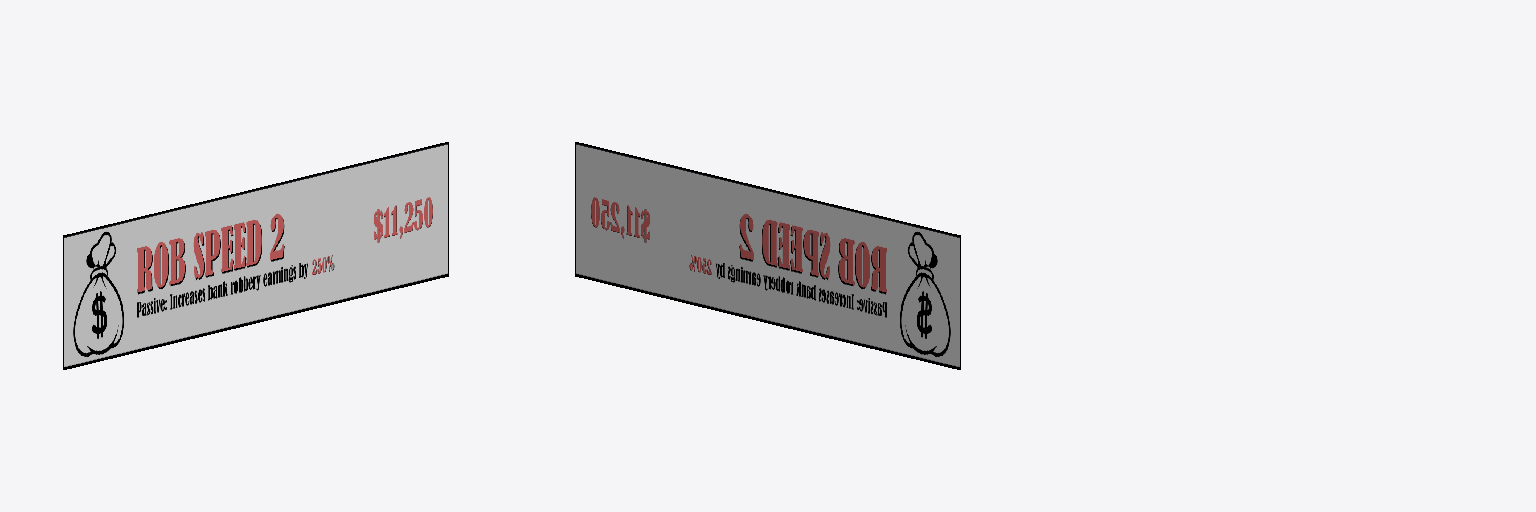
The picture shows the model from 3 angles: view 1: azimuth 30°, elevation 25°; view 2: azimuth 150°, elevation 25°; view 3: azimuth 270°, elevation 25°; orthographic projection.
Parts seen in each view (by area): view 1: Plane.003; view 2: Plane.003; view 3: none.
Part boxes in pixels (x1,y1,x2,y2): Plane.003: (63, 142, 448, 369); Plane.003: (575, 142, 960, 369).
Size of the model in its own units: 0.9 by 0.3 by 0.
1 materials, 1 textured.